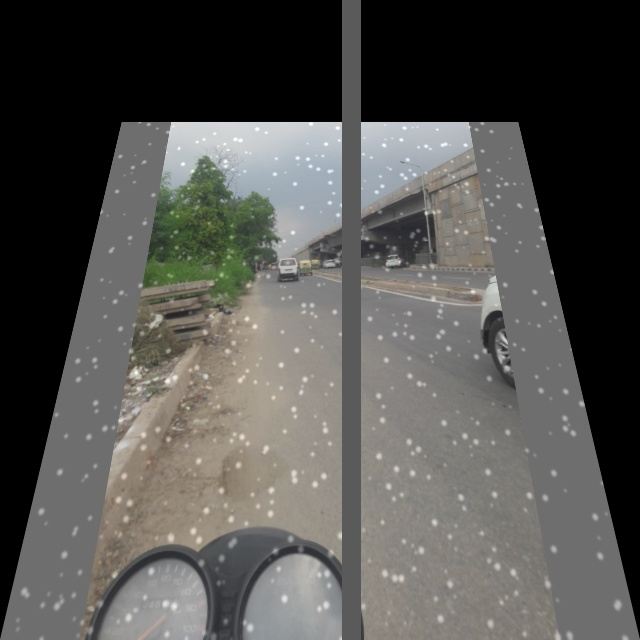Pass_Either_Side: (343, 231, 356, 243)
